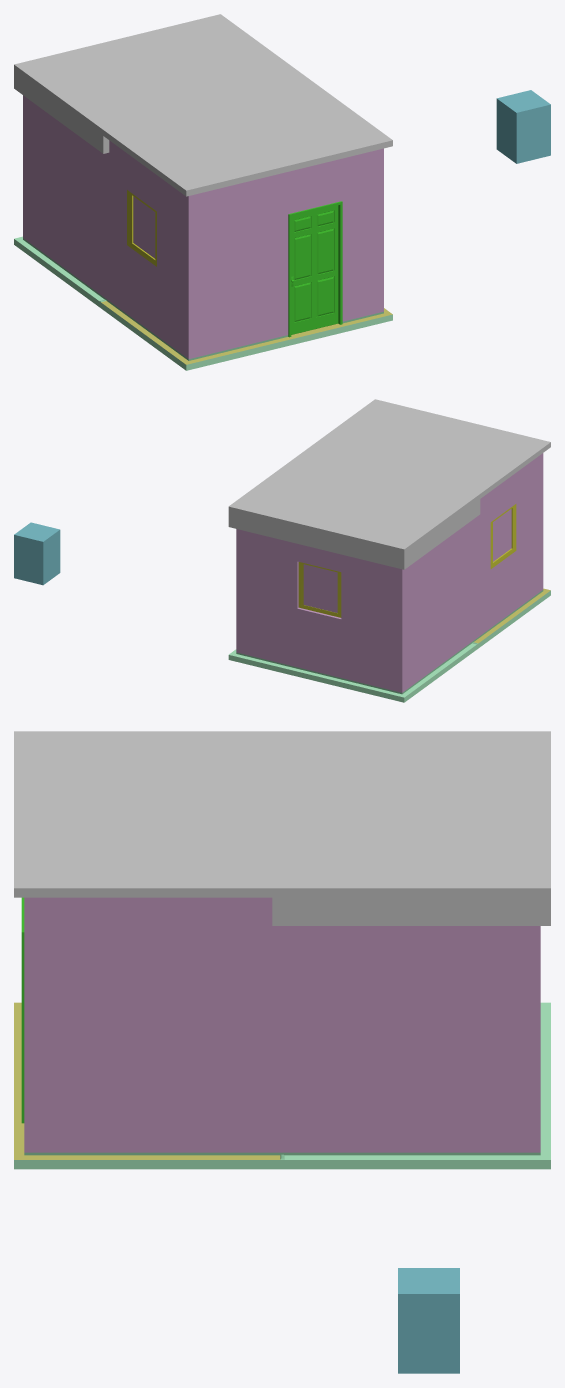
The model's file is FloorPlan17.fbx.
3 views of the same model, one above another, from view 1: azimuth 30°, elevation 25°; view 2: azimuth 150°, elevation 25°; view 3: azimuth 270°, elevation 25° (orthographic). The views are drawn at different scales.
Parts seen in each view (by area): view 1: StandardWallSize, Ceiling, StandardDoor1, Floor, StandardDishwasherSize1, StandardDoorFrame1, WindowPane1, StandardWindow1 (2); view 2: StandardWallSize, Ceiling, Floor, StandardDishwasherSize1, WindowPane2, WindowPane1, StandardWindow1; view 3: StandardWallSize, Ceiling, Floor, StandardDishwasherSize1, StandardDoorFrame1.
Part boxes in pixels (x1,y1,x2,y2): StandardWallSize: (23,95,383,360); Ceiling: (14,14,392,196); StandardDoor1: (291,205,338,334); Floor: (14,236,392,370); StandardDishwasherSize1: (496,90,550,163); StandardDoorFrame1: (288,201,342,337); WindowPane1: (133,196,155,258); StandardWindow1 (2): (130,192,156,263); StandardWallSize: (236,453,543,694); Ceiling: (228,399,550,569); Floor: (228,588,550,702); StandardDishwasherSize1: (14,522,60,585); WindowPane2: (303,564,337,612); WindowPane1: (493,509,511,561); StandardWindow1: (301,562,340,616); StandardWallSize: (24,897,540,1155); Ceiling: (14,731,550,925); Floor: (14,1002,550,1169); StandardDishwasherSize1: (398,1268,459,1373); StandardDoorFrame1: (21,897,24,1123).
Bounding box in the file's own units: 850 × 300 × 520.
